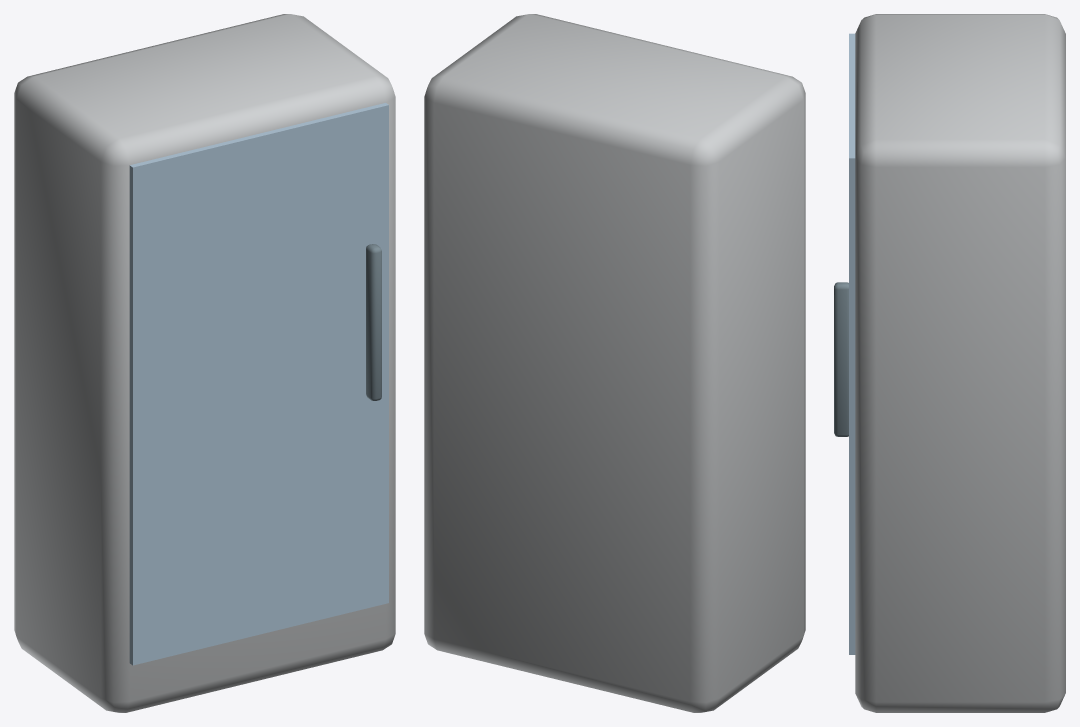
File: f_fridge.glb
3 views of the same model, side by side, from view 1: azimuth 30°, elevation 25°; view 2: azimuth 150°, elevation 25°; view 3: azimuth 270°, elevation 25° (orthographic).
Parts seen in each view (by area): view 1: Glass_f_fridge, f_fridge; view 2: f_fridge; view 3: f_fridge, Glass_f_fridge.
Part boxes in pixels (box(x1,y1,x2,y2)): Glass_f_fridge: box(129, 103, 388, 665); f_fridge: box(14, 14, 395, 712); f_fridge: box(424, 14, 805, 712); f_fridge: box(834, 14, 1065, 712); Glass_f_fridge: box(849, 33, 855, 654).
Size of the model in its own units: 1.6 by 3 by 1.1.
